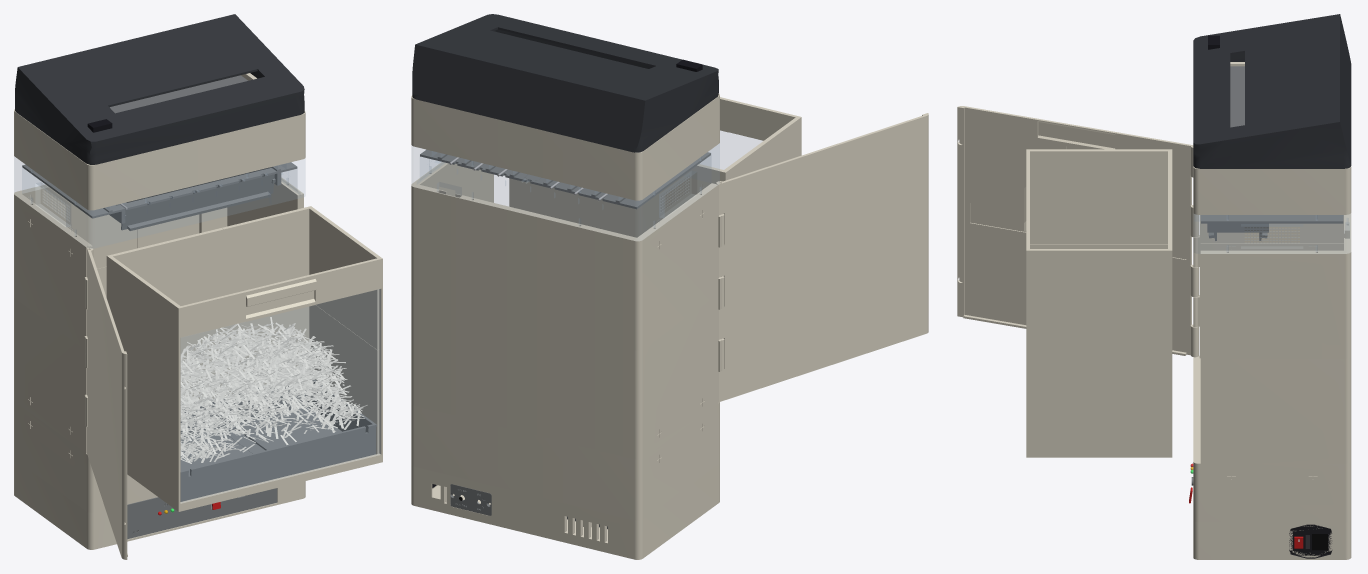
The picture shows the model from 3 angles, left to right: view 1: azimuth 30°, elevation 25°; view 2: azimuth 150°, elevation 25°; view 3: azimuth 270°, elevation 25°; orthographic projection. The views are drawn at different scales.
Visible parts, largest first — view 1: s2_bin, head, s2_outer, s2_paper, s4, s3, s2_tray, s2_door, s1_box, s0_fixed, s0_drawer; view 2: s2_outer, s2_door, head, s1_box, s4, s3, s0_fixed, s2_bin; view 3: s2_bin, s2_outer, s2_door, head, s1_box, s4, s0_fixed, s3.
Part boxes in pixels (box(x1,y1,x2,y2)): s2_bin: box(106, 206, 382, 511); head: box(15, 14, 304, 164); s2_outer: box(14, 177, 303, 453); s2_paper: box(180, 317, 367, 463); s4: box(14, 73, 305, 210); s3: box(14, 157, 304, 248); s2_tray: box(180, 379, 376, 501); s2_door: box(87, 247, 127, 559); s1_box: box(14, 401, 157, 512); s0_fixed: box(14, 458, 305, 549); s0_drawer: box(127, 488, 277, 539); s2_outer: box(411, 162, 724, 459); s2_door: box(716, 113, 928, 401); head: box(412, 14, 718, 152); s1_box: box(411, 402, 719, 520); s4: box(411, 93, 719, 200); s3: box(412, 144, 719, 240); s0_fixed: box(411, 463, 719, 559); s2_bin: box(509, 97, 801, 237); s2_bin: box(1024, 149, 1172, 457); s2_outer: box(1193, 213, 1351, 463); s2_door: box(957, 106, 1198, 357); head: box(1193, 14, 1351, 168); s1_box: box(1193, 355, 1351, 522); s4: box(1193, 62, 1351, 214); s0_fixed: box(1193, 520, 1351, 559); s3: box(1194, 214, 1350, 253).
Bounding box in the file's own units: 0.4795 × 0.651 × 0.5341.
